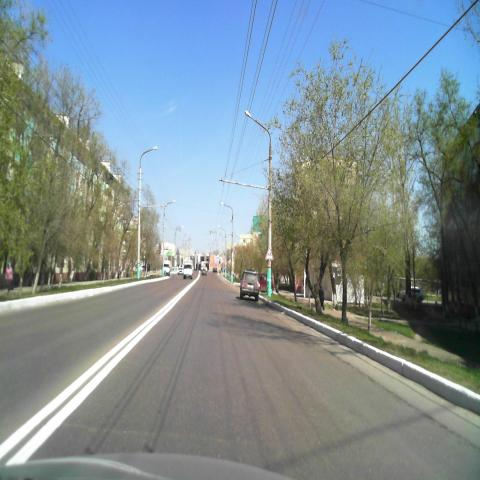1_23: (265, 246, 274, 260)
2_1: (227, 241, 232, 249)
